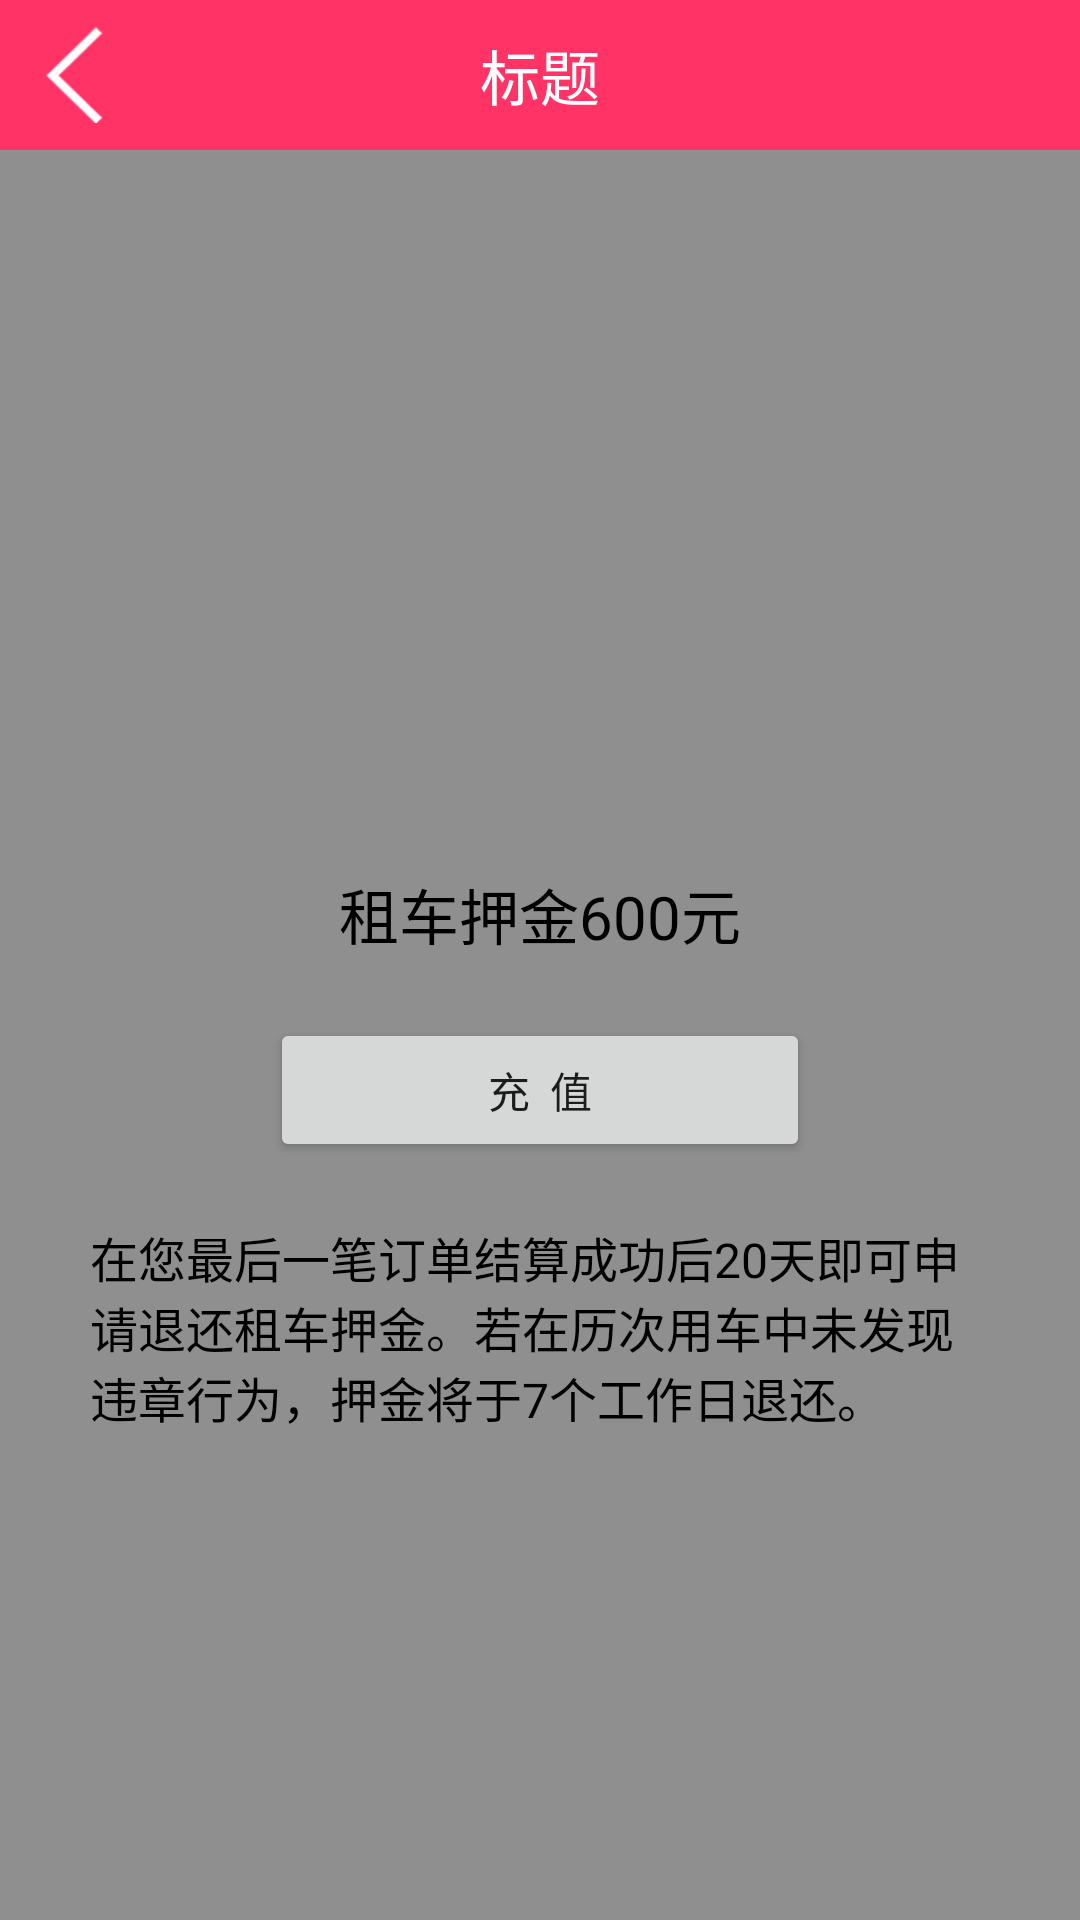

Screen size 1080 × 1920. Icon name, then its center in pixels as (x,y):
fanhuijiantou: (74,75)
